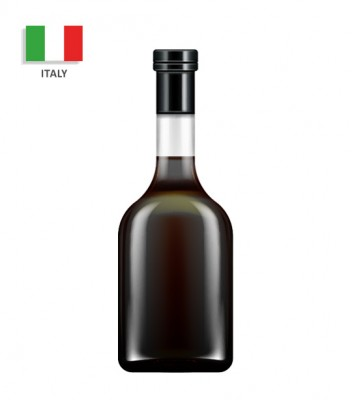glass_bottleww: (103, 24, 267, 393)
